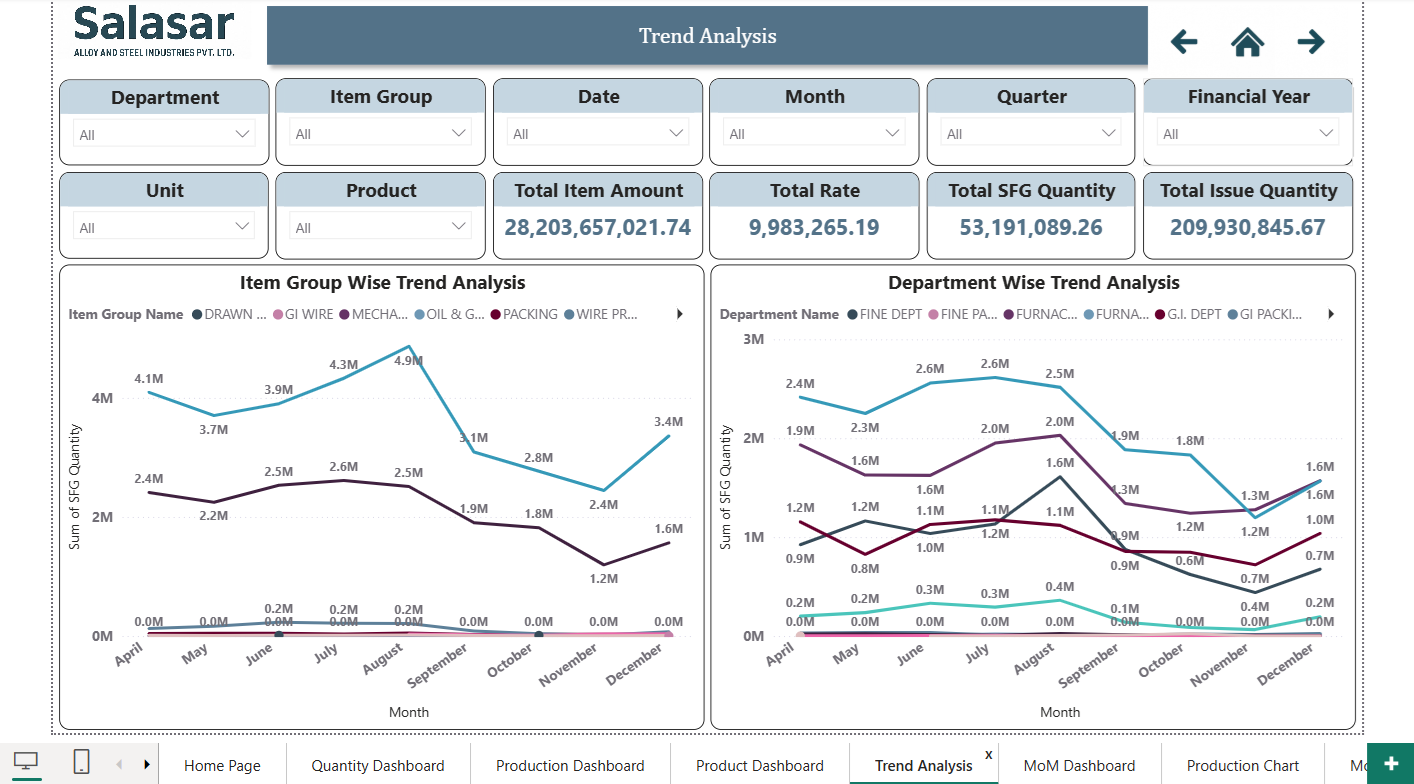

The page's visual inventory and layout, read from the dashboard file:
{"tool":"powerbi","page":{"name":"Trend Analysis","canvas":[1280,720],"ordinal":4},"visuals":[{"type":"image","box":[1128.7,3.8,80,80],"z":0,"group":"g1"},{"type":"lineChart","title":"Item Group Wise Trend Analysis","fields":{"Category":["Calendar.Month"],"Y":["Sum(Sheet 1.SFG Quantity)"],"Series":["Sheet 1.Item Group Name"]},"box":[6.1,261.5,631,455],"z":0},{"type":"image","box":[1066.2,3.8,80,80],"z":1000,"group":"g1"},{"type":"lineChart","title":"Department Wise Trend Analysis","fields":{"Category":["Calendar.Month"],"Series":["Sheet 1.Department Name"],"Y":["Sum(Sheet 1.SFG Quantity)"]},"box":[643.2,261.5,631,455],"z":1000},{"type":"image","box":[1191.2,3.8,80,80],"z":2000,"group":"g1"},{"type":"slicer","title":"Department","fields":{"Values":["Sheet 1.Department Name"]},"box":[6,81,205.4,84.4],"z":2000},{"type":"slicer","title":"Item Group","fields":{"Values":["Sheet 1.Item Group Name"]},"box":[217.7,79.5,205.4,85.6],"z":3000},{"type":"slicer","title":"Date","fields":{"Values":["Sheet 1.Doc Date"]},"box":[430.4,79.5,205.4,85.6],"z":4000},{"type":"slicer","title":"Month","fields":{"Values":["Calendar.Month"]},"box":[642,79.5,205.4,85.6],"z":5000},{"type":"slicer","title":"Quarter","fields":{"Values":["Calendar.Qtr"]},"box":[854.8,79.5,204.2,85.6],"z":6000},{"type":"slicer","title":"Financial Year","fields":{"Values":["Calendar.Fiscal Year"]},"box":[1066.3,79.5,205.4,85.6],"z":7000},{"type":"slicer","title":"Unit","fields":{"Values":["Sheet 1.unit"]},"box":[6.1,171,205,85],"z":8000},{"type":"card","title":"Total Item Amount ","fields":{"Values":["Sum(Sheet 1.ItemAmount)"]},"box":[430.4,171.2,205.4,85.6],"z":9000},{"type":"card","title":"Total Rate","fields":{"Values":["Sum(Sheet 1.Rate)"]},"box":[642,171.2,205.4,85.6],"z":10000},{"type":"card","title":"Total SFG Quantity","fields":{"Values":["Sum(Sheet 1.SFG Quantity)"]},"box":[854.8,171.2,204.2,85.6],"z":11000},{"type":"card","title":"Total Issue Quantity","fields":{"Values":["Sum(Sheet 1.Issue Quantity)"]},"box":[1066.3,171.2,205.4,85.6],"z":12000},{"type":"slicer","title":"Product","fields":{"Values":["Sheet 1.Product Name"]},"box":[217.7,171.2,205.4,85.6],"z":13000},{"type":"shape","box":[200,0,880,75],"z":14000},{"type":"image","box":[0,0,199.3,66],"z":15000},{"type":"group","id":"g1","title":"Group 1","box":[1066.2,3.8,205,80],"z":16000}]}

Visuals, with their boxes on the page's 1280x720 design canvas (x1, y1, x2, y2). These are canvas units, not pixel positions in the 1414x784 screenshot, which may show the page scaled, cropped or inside an application window:
image: pyautogui.locateOnScreen(1129, 4, 1209, 84)
"Item Group Wise Trend Analysis" lineChart: pyautogui.locateOnScreen(6, 262, 637, 716)
image: pyautogui.locateOnScreen(1066, 4, 1146, 84)
"Department Wise Trend Analysis" lineChart: pyautogui.locateOnScreen(643, 262, 1274, 716)
image: pyautogui.locateOnScreen(1191, 4, 1271, 84)
"Department" slicer: pyautogui.locateOnScreen(6, 81, 211, 165)
"Item Group" slicer: pyautogui.locateOnScreen(218, 80, 423, 165)
"Date" slicer: pyautogui.locateOnScreen(430, 80, 636, 165)
"Month" slicer: pyautogui.locateOnScreen(642, 80, 847, 165)
"Quarter" slicer: pyautogui.locateOnScreen(855, 80, 1059, 165)
"Financial Year" slicer: pyautogui.locateOnScreen(1066, 80, 1272, 165)
"Unit" slicer: pyautogui.locateOnScreen(6, 171, 211, 256)
"Total Item Amount " card: pyautogui.locateOnScreen(430, 171, 636, 257)
"Total Rate" card: pyautogui.locateOnScreen(642, 171, 847, 257)
"Total SFG Quantity" card: pyautogui.locateOnScreen(855, 171, 1059, 257)
"Total Issue Quantity" card: pyautogui.locateOnScreen(1066, 171, 1272, 257)
"Product" slicer: pyautogui.locateOnScreen(218, 171, 423, 257)
shape: pyautogui.locateOnScreen(200, 0, 1080, 75)
image: pyautogui.locateOnScreen(0, 0, 199, 66)
"Group 1" group: pyautogui.locateOnScreen(1066, 4, 1271, 84)
